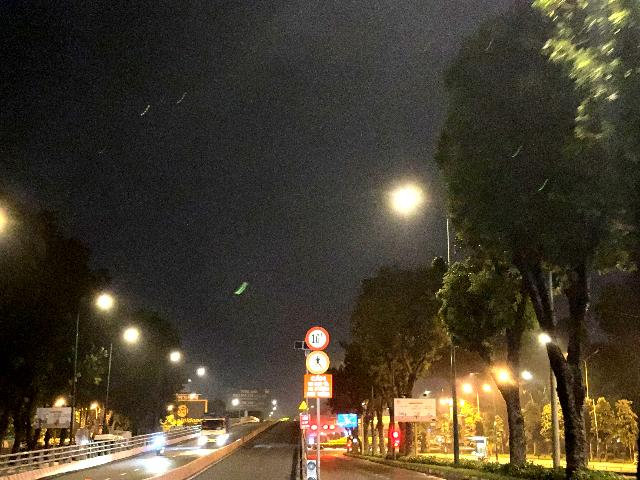cam-nguoi-di-bo: (306, 351, 329, 374)
han-che-trong-luong-xe: (305, 327, 330, 351)
